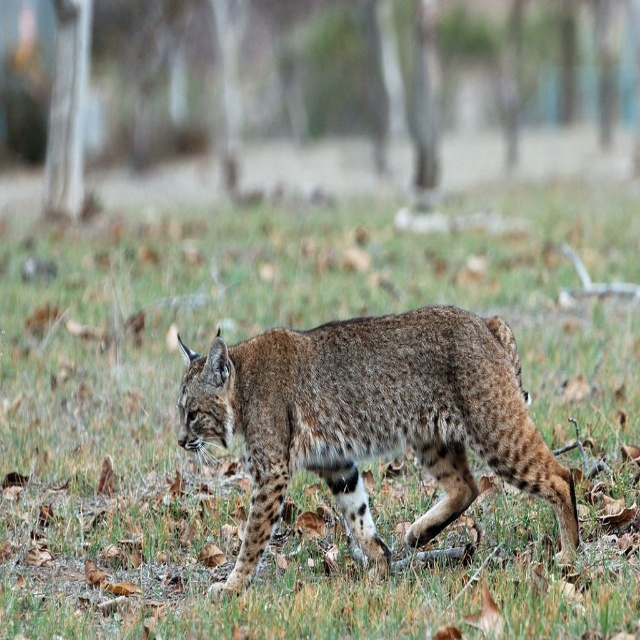Lynx: (177, 304, 580, 606)
